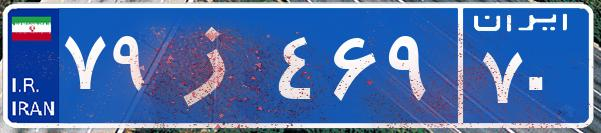0: (525, 38, 570, 115)
4: (273, 28, 330, 110)
6: (330, 28, 385, 110)
7: (57, 26, 110, 107), (475, 38, 525, 113)
9: (385, 28, 445, 110), (110, 28, 158, 105)
ز: (158, 15, 273, 115)
